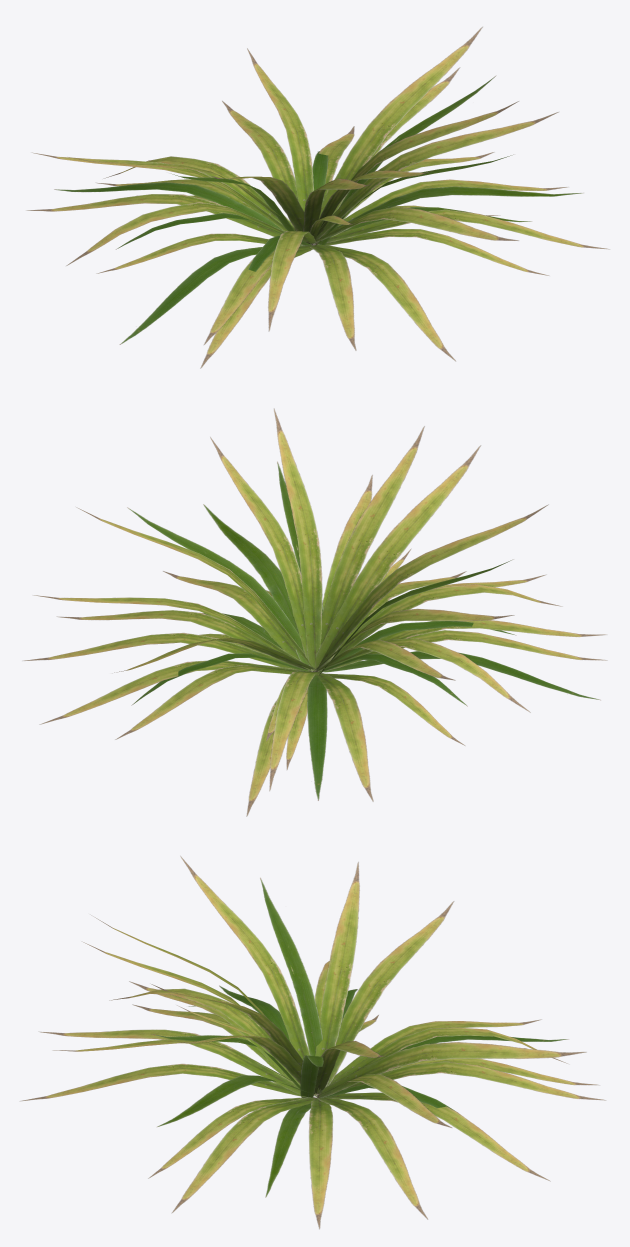
File: grass_foliage_two.glb
3 renders of one model, top to bottom at view 1: azimuth 30°, elevation 25°; view 2: azimuth 150°, elevation 25°; view 3: azimuth 270°, elevation 25°, orthographic.
Visible parts, largest first — view 1: Object_3.082; view 2: Object_3.082; view 3: Object_3.082.
Part boxes in pixels (<box>): Object_3.082: <box>26,26,609,368</box>; Object_3.082: <box>23,408,607,816</box>; Object_3.082: <box>20,856,605,1229</box>.
Bounding box in the file's own units: 3.93 × 1.5 × 3.96.
1 material, 1 textured.
